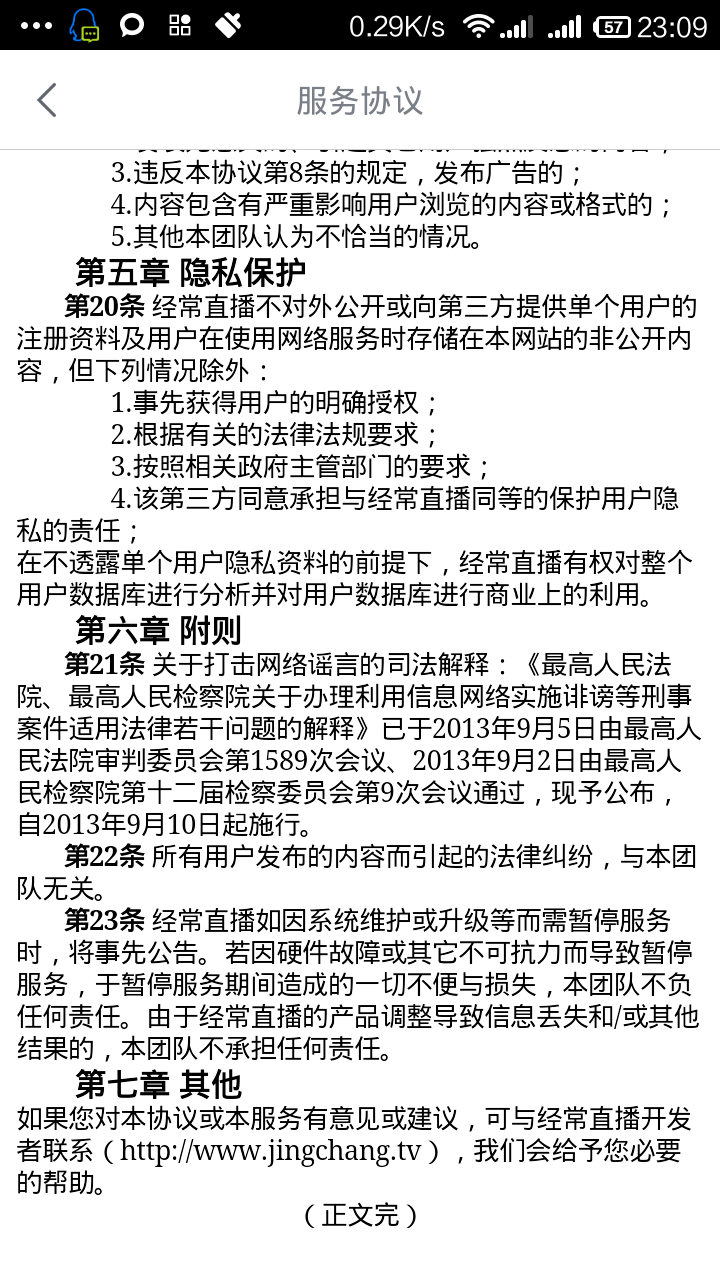textview: (9, 153, 712, 1244)
